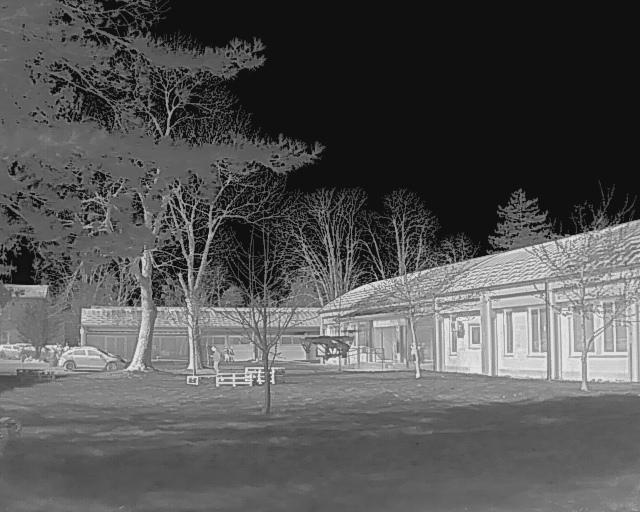drone: (283, 310, 373, 375)
